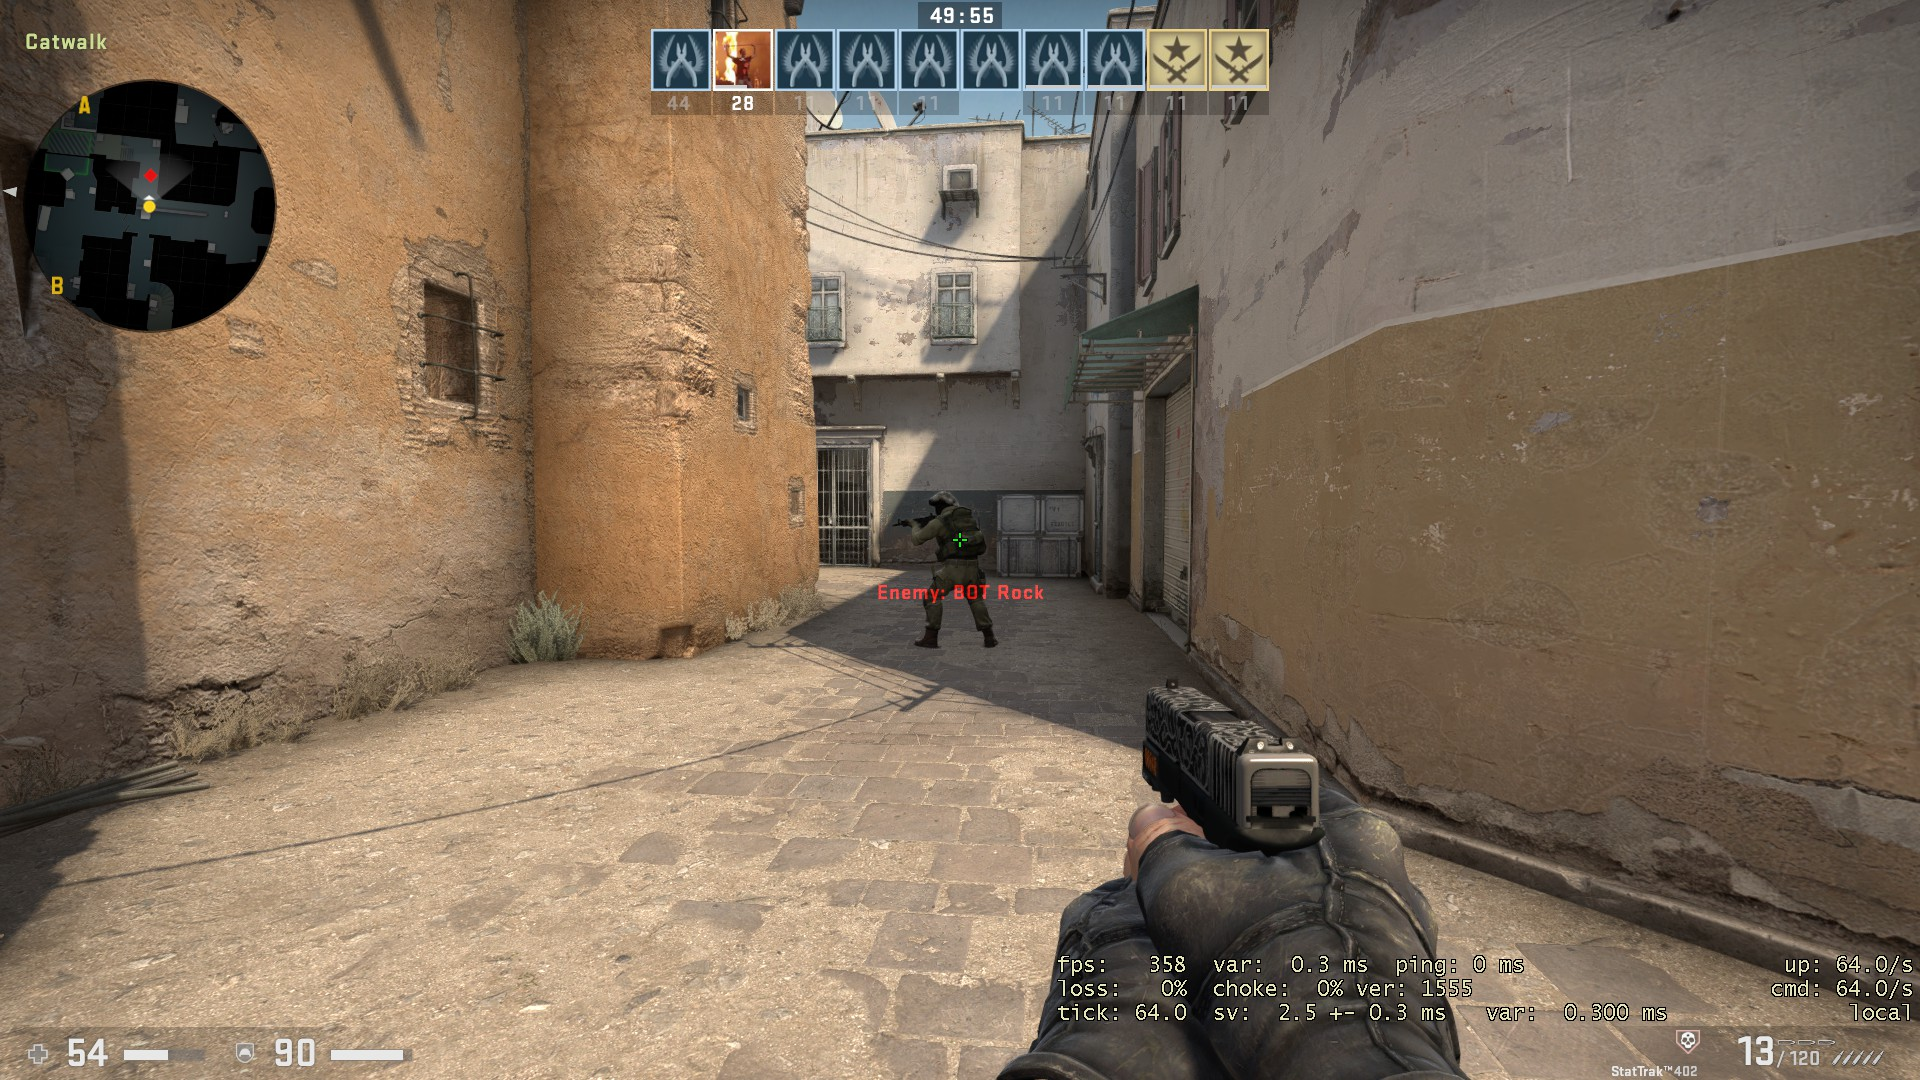player: (887, 486, 1007, 658)
